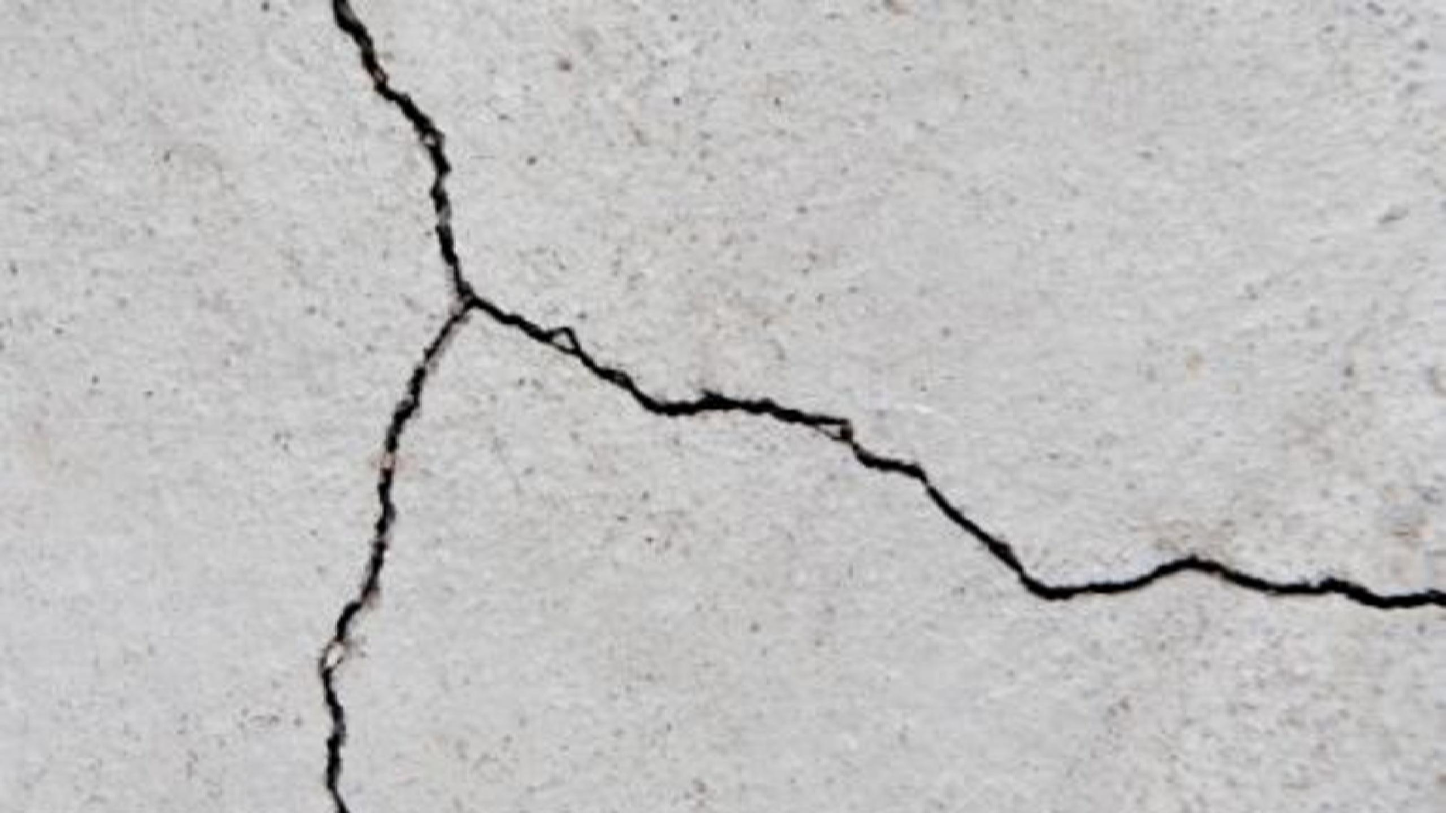crack: (310, 2, 1445, 812)
